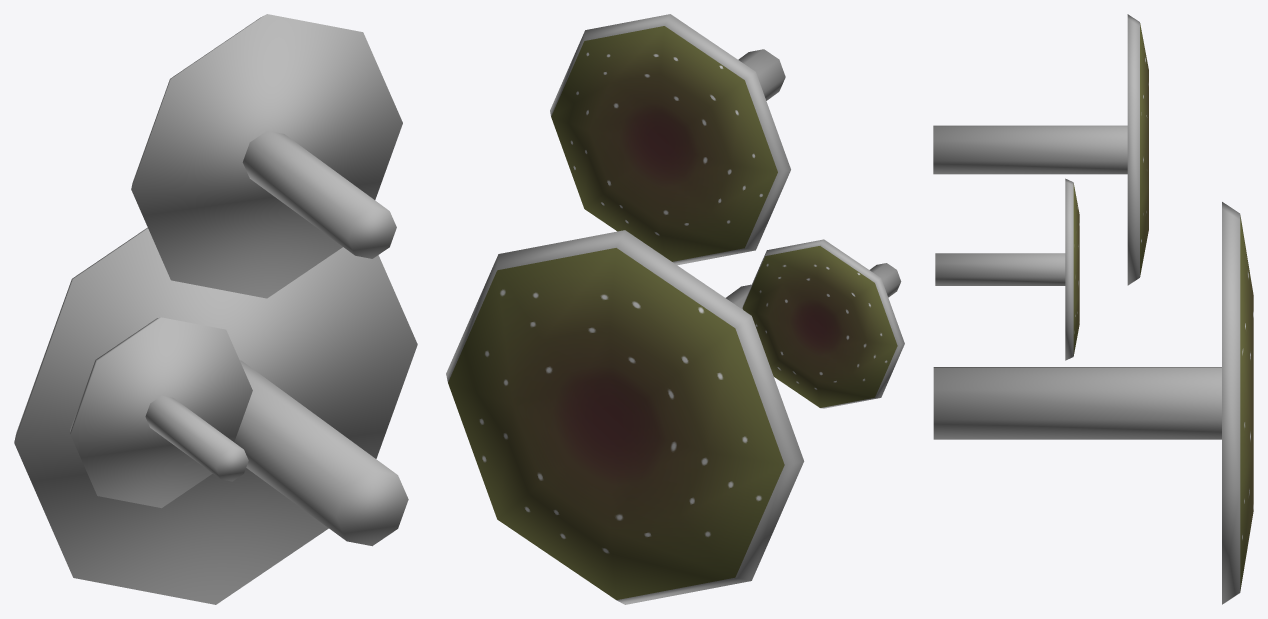
The model's file is Mushroom01.fbx.
3 renders of one model, left to right at view 1: azimuth 30°, elevation 25°; view 2: azimuth 150°, elevation 25°; view 3: azimuth 270°, elevation 25°, orthographic. The views are drawn at different scales.
Visible parts, largest first — view 1: 円柱.001; view 2: 円柱.001; view 3: 円柱.001.
Boxes of the visible parts, bbox=[...] form: 円柱.001: bbox=[14, 14, 417, 604]; 円柱.001: bbox=[446, 14, 904, 604]; 円柱.001: bbox=[933, 14, 1253, 604].
Bounding box in the file's own units: 4.25 × 5.9 × 2.95.
